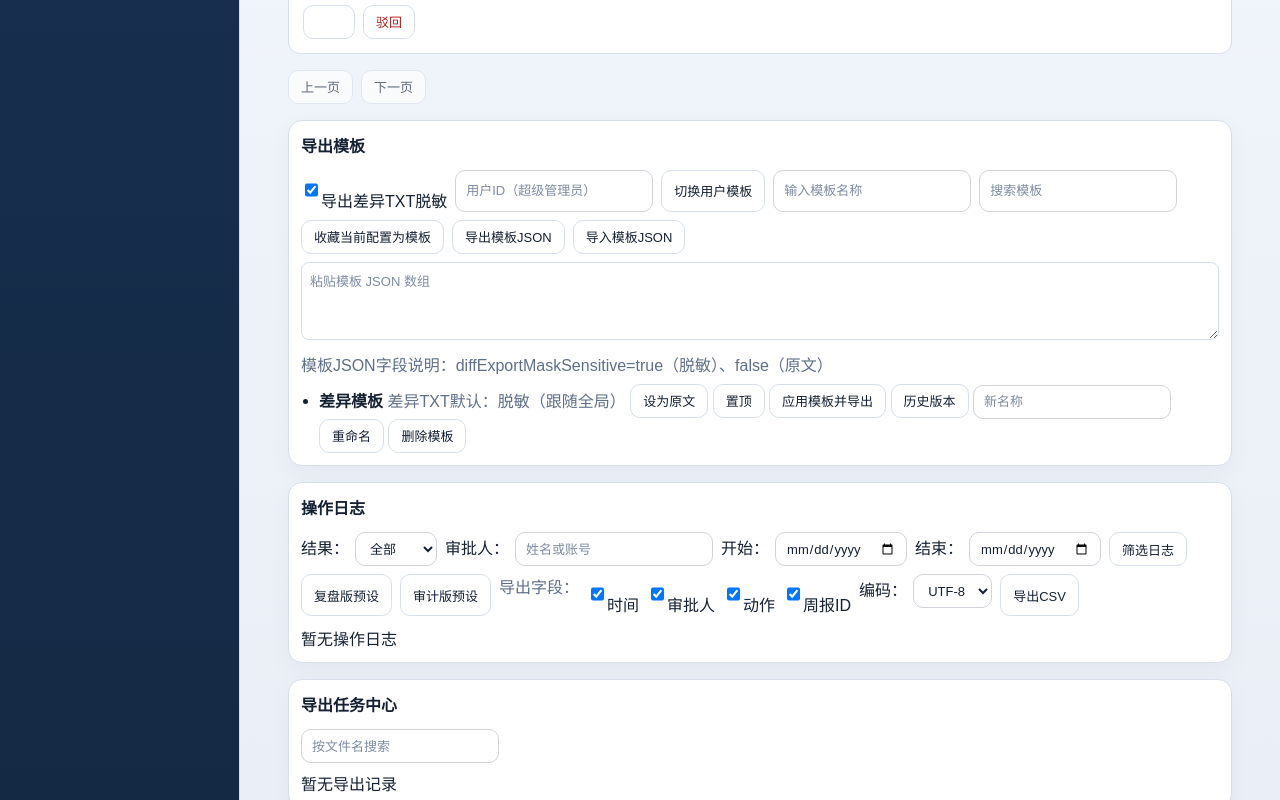
it: ManagerReviewsPage › shows version diff summary against current template
The image size is (1280, 800).
(page scrolled)
Expected: the text "差异模板" is shown, [319, 392, 383, 409]
Click the button with aria-label "查看模板版本-差异模板" at [930, 401], box [891, 384, 969, 418]
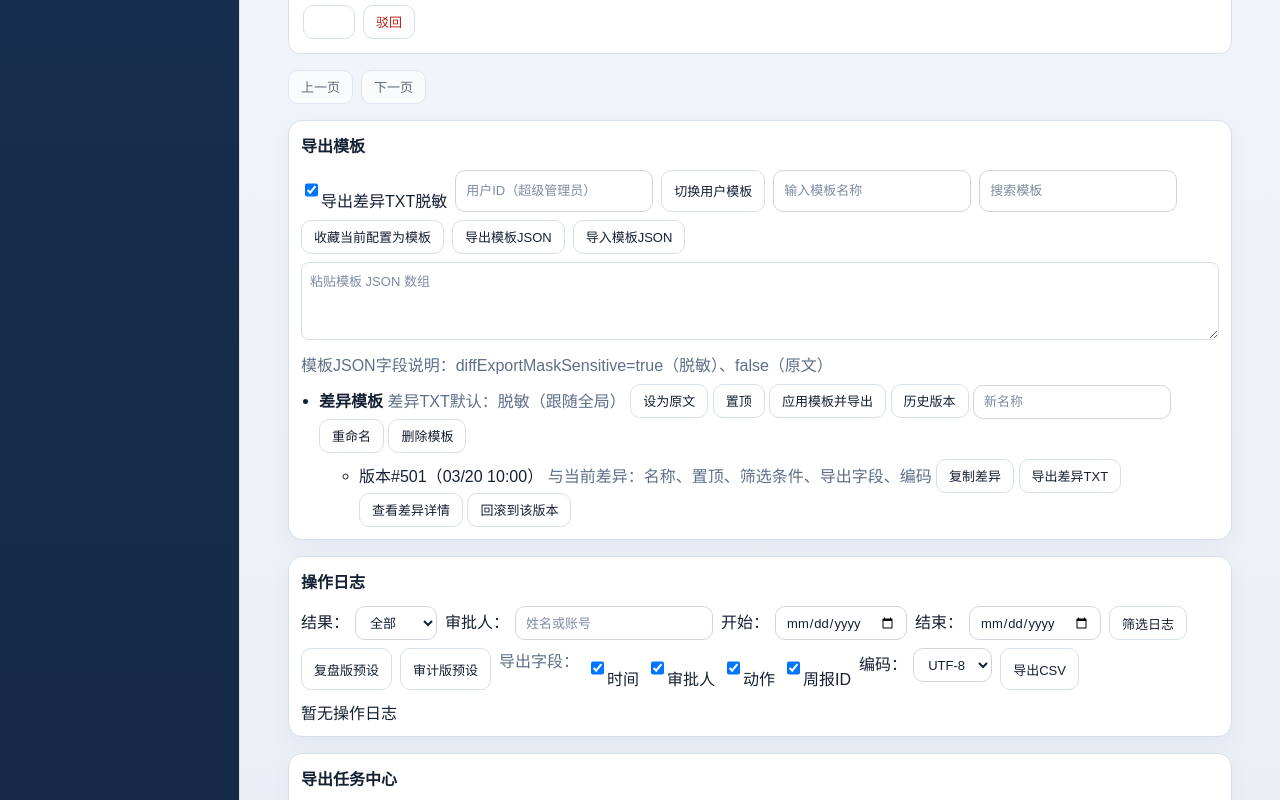
Expected: the text "与当前差异：名称、置顶、筛选条件、导出字段、编码" is shown, [548, 467, 932, 484]
